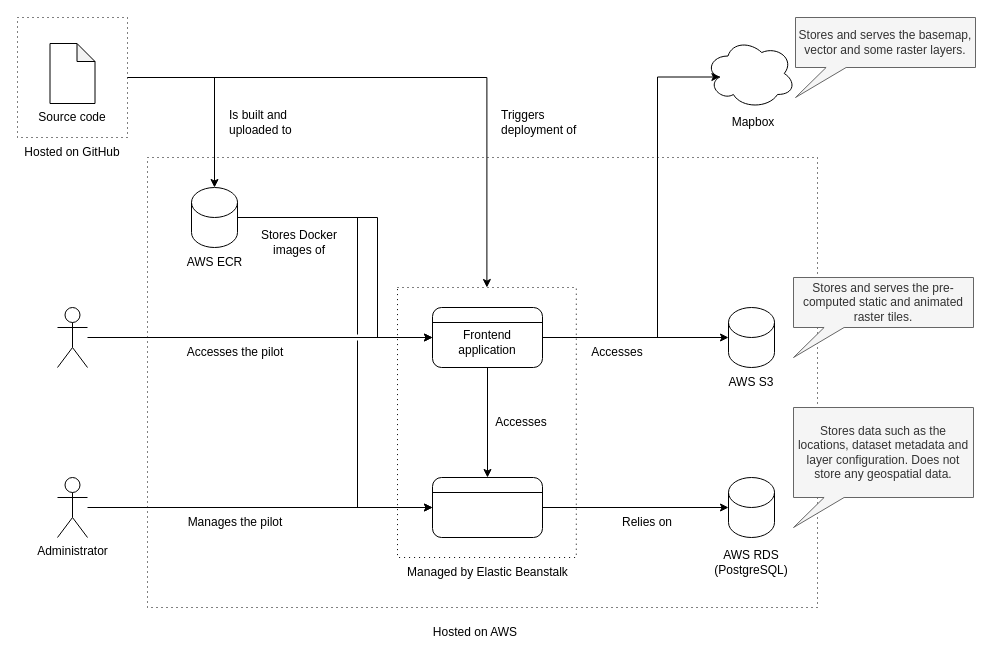
The diagram is 993 pixels wide and 665 high, and some of its shapes have lost their labels. Each missing label, with the centre of its shape:
"CMS application" belongs at (x=487, y=507).
"Public" belongs at (x=72, y=337).
